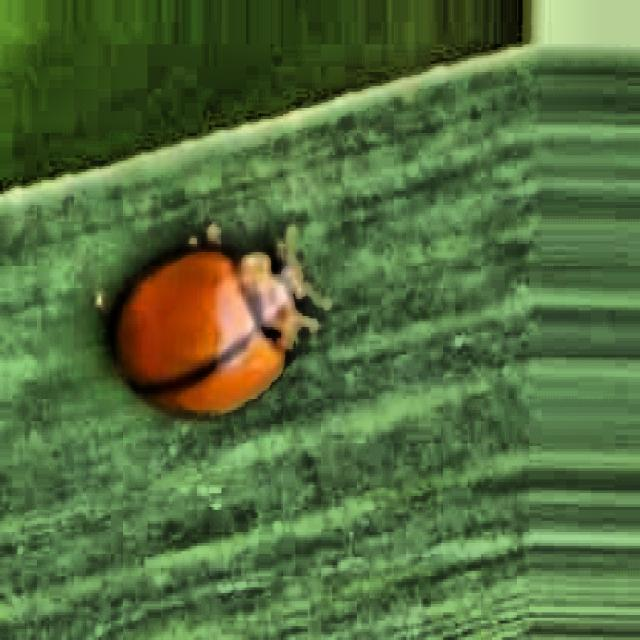Ladybug: (76, 176, 339, 475)
